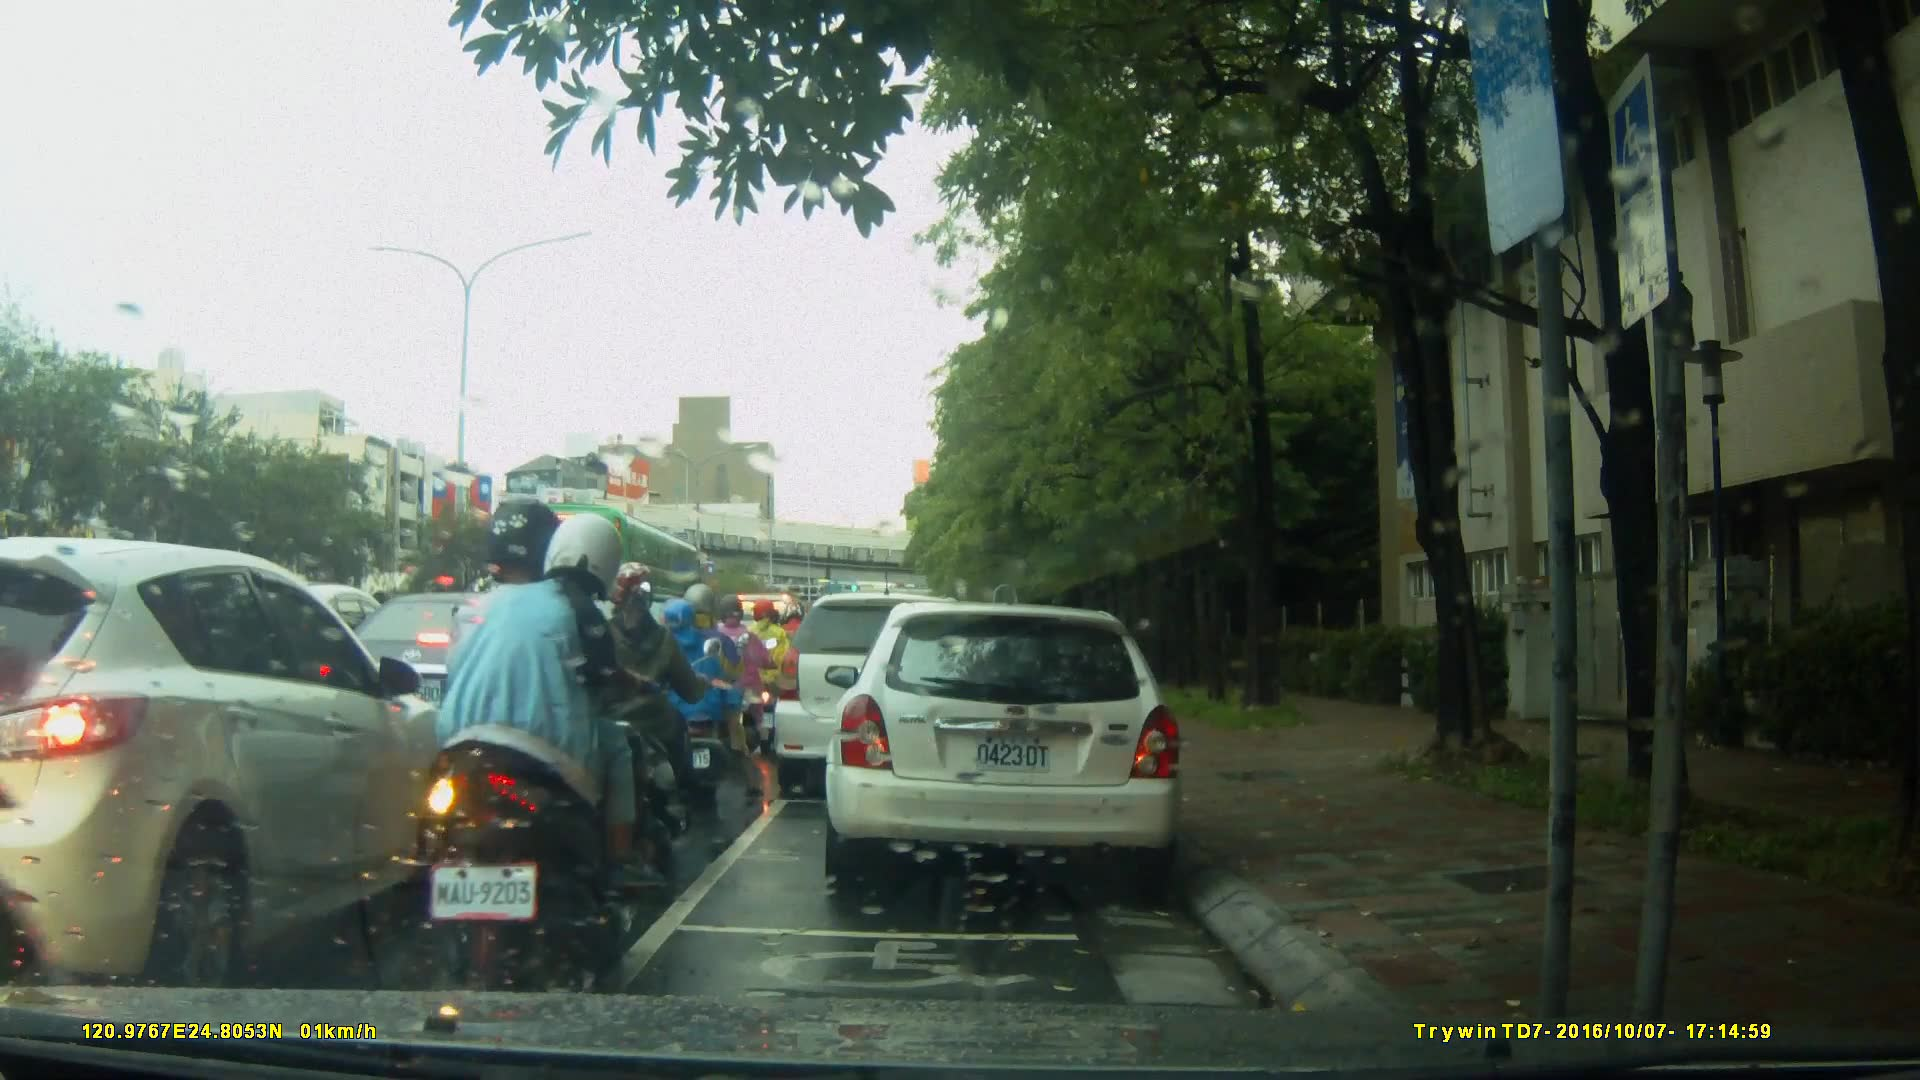rider: (434, 500, 657, 998), (592, 564, 725, 864), (655, 587, 739, 802), (698, 598, 771, 764), (739, 598, 798, 748)
vehicle: (4, 535, 465, 988), (831, 592, 1196, 897), (312, 589, 629, 776), (771, 590, 999, 803), (500, 502, 709, 636)
